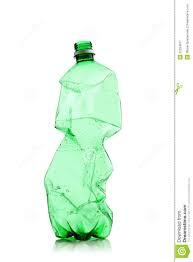plastic: (44, 43, 120, 242)
